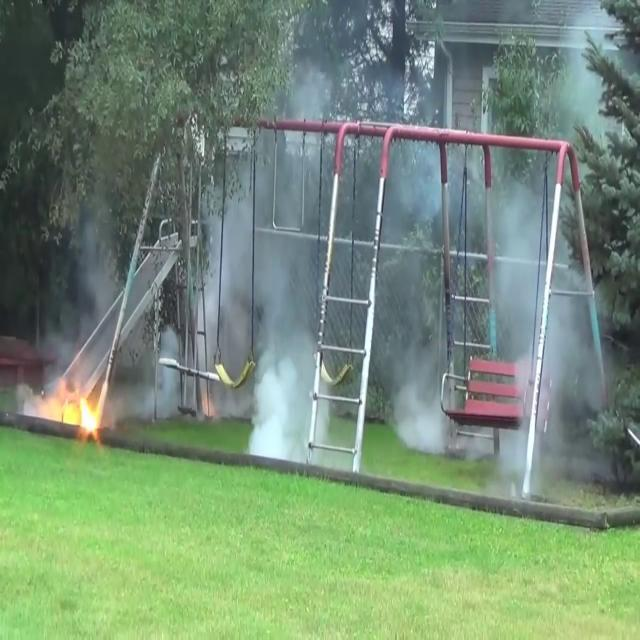Fire: (40, 375, 104, 438)
Smoke: (388, 119, 614, 493), (208, 133, 318, 451), (47, 200, 137, 376)
